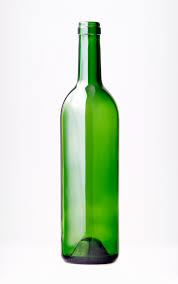bottle: (56, 20, 121, 267)
